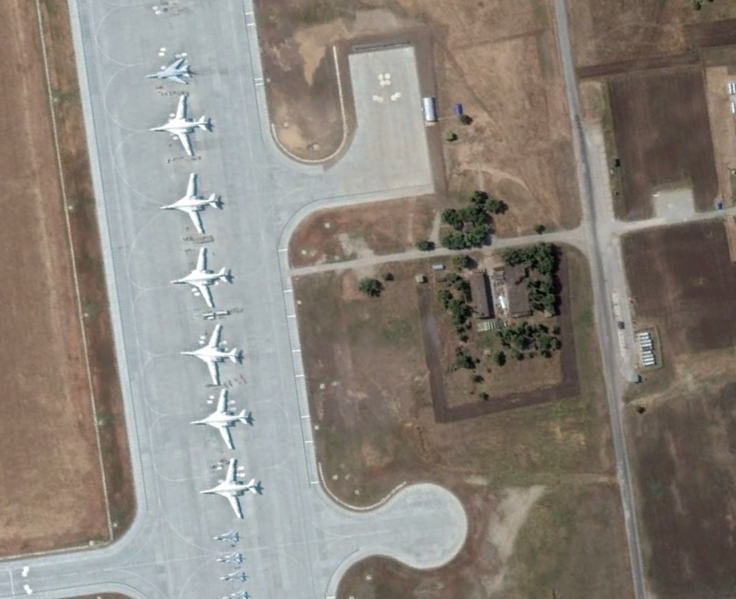A12: (143, 58, 204, 87)
A20: (216, 553, 248, 567), (221, 570, 248, 585), (215, 530, 239, 544), (221, 590, 255, 599)
A6: (142, 87, 229, 164), (150, 162, 237, 239), (159, 239, 246, 316), (168, 314, 255, 391), (180, 382, 263, 456), (191, 449, 274, 523)
